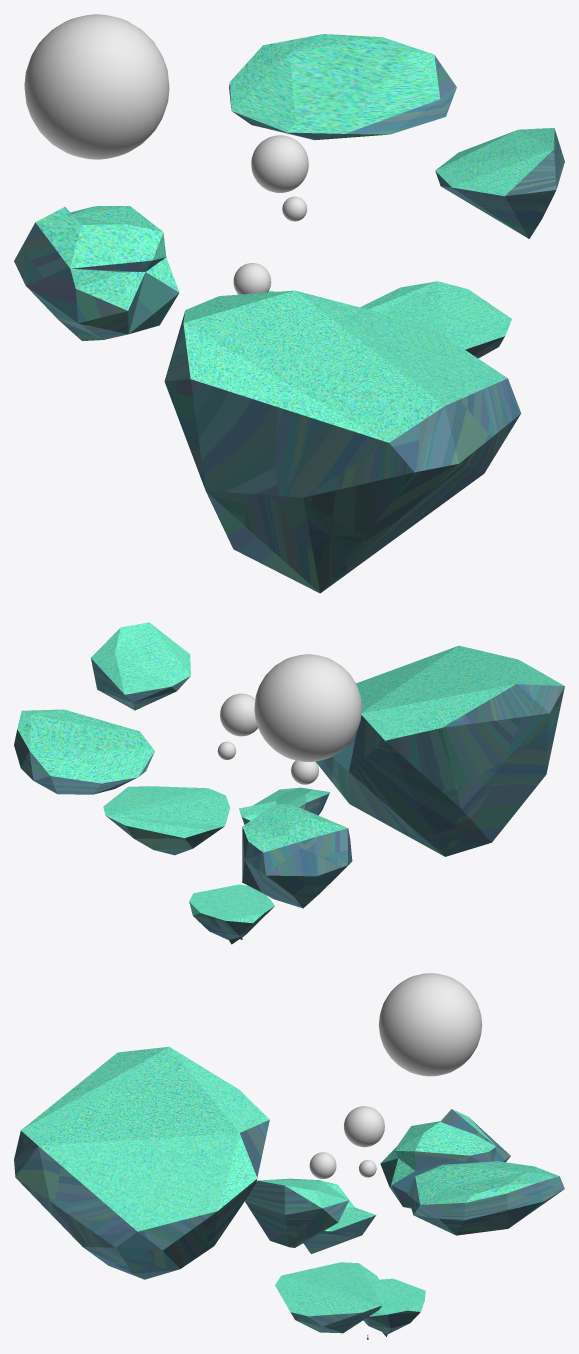
The model's file is FloatingIslandsModels.fbx.
3 renders of one model, top to bottom at view 1: azimuth 30°, elevation 25°; view 2: azimuth 150°, elevation 25°; view 3: azimuth 270°, elevation 25°, orthographic. The views are drawn at different scales.
Parts seen in each view (by area): view 1: Cylinder.006, Cube.004, Sphere, Cube.003, Cube.002, Cylinder.005, Sphere.002, Sphere.003; view 2: Cylinder.006, Cube.004, Sphere, Cube.003, Cylinder.005, Cube.002, Cylinder.004, Cube.001, Sphere.002, Sphere.003; view 3: Cylinder.006, Cube.004, Sphere, Cylinder.005, Cube.003, Cube.002, Cylinder.004, Cube.001, Sphere.002, Sphere.003.
Boxes of the visible parts, <box> form: Cylinder.006: <box>164,290,521,593</box>; Cube.004: <box>229,34,456,140</box>; Sphere: <box>24,14,169,159</box>; Cube.003: <box>14,206,179,340</box>; Cube.002: <box>435,128,564,238</box>; Cylinder.005: <box>360,281,511,358</box>; Sphere.002: <box>251,135,308,192</box>; Sphere.003: <box>233,263,271,294</box>; Cylinder.006: <box>315,645,564,856</box>; Cube.004: <box>14,709,154,794</box>; Sphere: <box>254,654,361,761</box>; Cube.003: <box>242,804,352,908</box>; Cylinder.005: <box>103,786,230,855</box>; Cube.002: <box>91,622,190,710</box>; Cylinder.004: <box>189,884,274,944</box>; Cube.001: <box>239,787,329,824</box>; Sphere.002: <box>220,693,258,736</box>; Sphere.003: <box>291,760,318,784</box>; Cylinder.006: <box>14,1046,269,1279</box>; Cube.004: <box>407,1161,564,1235</box>; Sphere: <box>378,973,482,1076</box>; Cylinder.005: <box>275,1262,389,1333</box>; Cube.003: <box>380,1109,510,1208</box>; Cube.002: <box>245,1178,348,1247</box>; Cylinder.004: <box>363,1278,425,1336</box>; Cube.001: <box>303,1181,376,1253</box>; Sphere.002: <box>343,1106,384,1147</box>; Sphere.003: <box>309,1152,336,1178</box>.
Size of the model in its own units: 26280 by 22320 by 35384.
13 materials, 8 textured.
